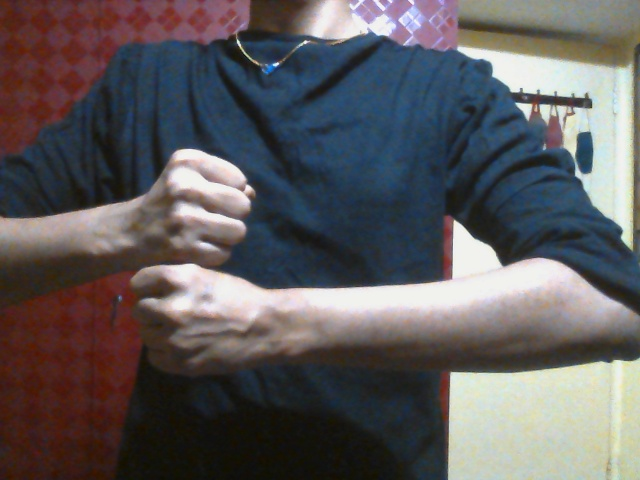G: (127, 146, 264, 381)
